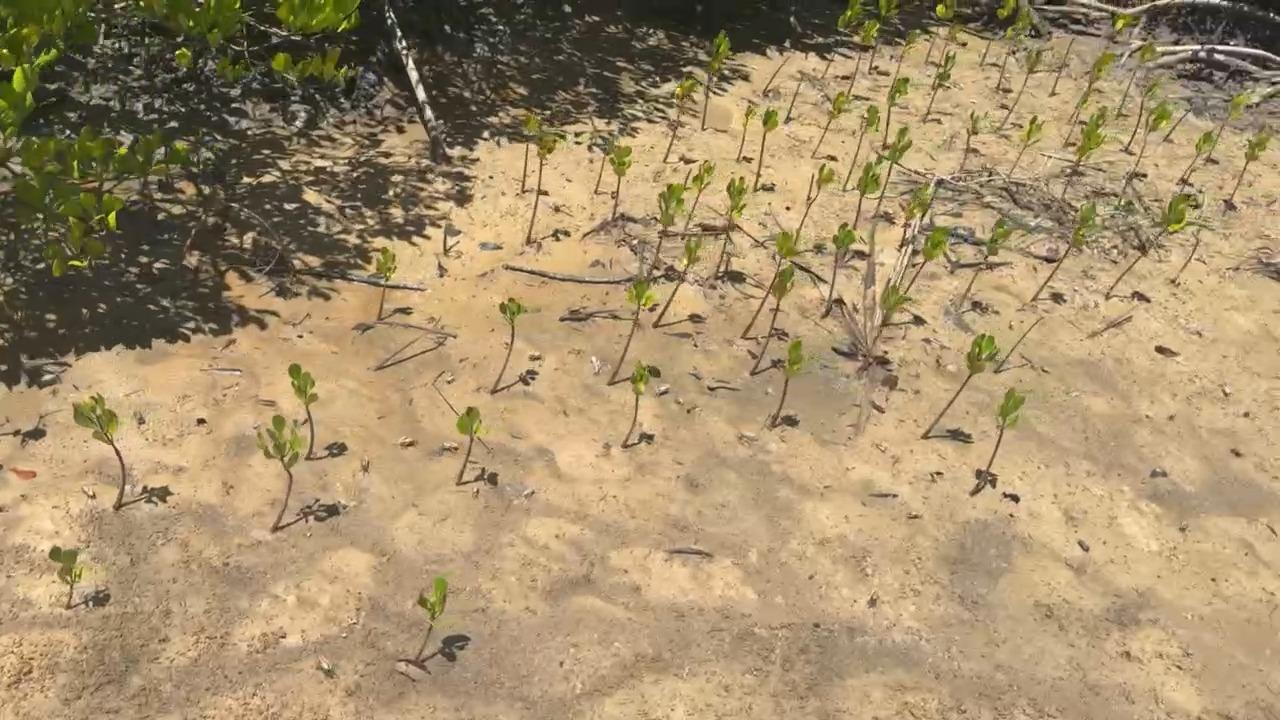Tree: (1104, 192, 1195, 301), (920, 333, 1000, 439), (1066, 9, 1133, 122), (1030, 199, 1096, 302), (72, 393, 126, 511), (969, 388, 1026, 497), (741, 231, 798, 340), (256, 415, 308, 533), (605, 278, 660, 386), (958, 217, 1017, 311), (1221, 123, 1279, 218), (750, 264, 795, 376), (1063, 53, 1116, 145), (1122, 100, 1174, 192), (652, 236, 703, 328), (1060, 105, 1108, 199), (646, 182, 685, 287), (994, 49, 1043, 131), (373, 315, 443, 371), (1202, 89, 1252, 166), (490, 297, 529, 395), (1114, 41, 1163, 119), (872, 125, 913, 218), (818, 0, 866, 78), (714, 176, 750, 279), (904, 225, 956, 296), (525, 134, 557, 246), (841, 104, 880, 192), (794, 163, 835, 246), (699, 29, 731, 132), (768, 340, 805, 427), (996, 4, 1033, 90), (661, 76, 697, 164), (680, 159, 717, 241), (872, 278, 913, 349), (289, 363, 319, 460), (994, 317, 1045, 374), (811, 91, 853, 159), (415, 578, 448, 661), (620, 360, 650, 449), (1124, 78, 1160, 152), (845, 20, 879, 98), (826, 222, 856, 310), (887, 29, 922, 104), (923, 49, 957, 123), (979, 0, 1016, 68), (868, 0, 899, 76), (454, 406, 483, 485), (753, 106, 779, 192), (1009, 115, 1046, 175), (49, 545, 83, 610), (1176, 128, 1215, 184), (853, 161, 882, 231), (370, 246, 397, 321), (931, 25, 962, 90), (882, 77, 910, 148), (924, 4, 954, 63), (609, 145, 632, 221), (520, 113, 541, 193), (957, 110, 981, 174), (1050, 38, 1075, 96), (593, 136, 617, 194), (735, 105, 756, 162), (762, 56, 791, 97), (1163, 103, 1193, 142), (784, 73, 804, 124), (1179, 228, 1202, 272), (1099, 315, 1134, 334), (442, 205, 452, 254)
